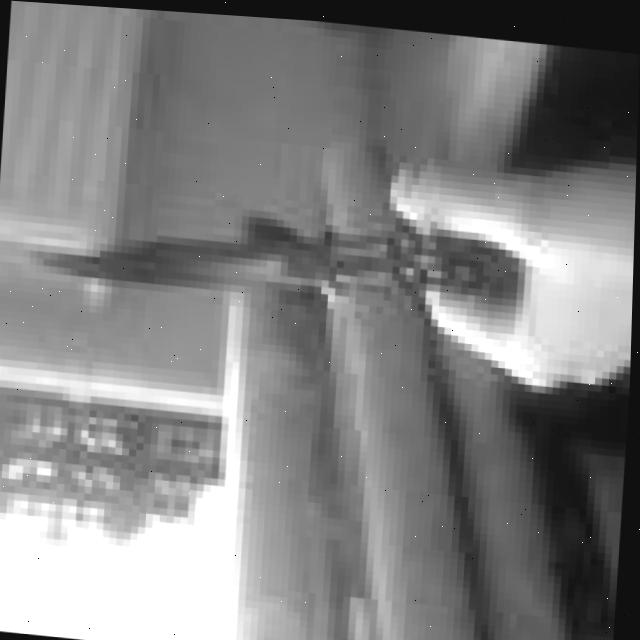knife: (12, 180, 508, 320)
